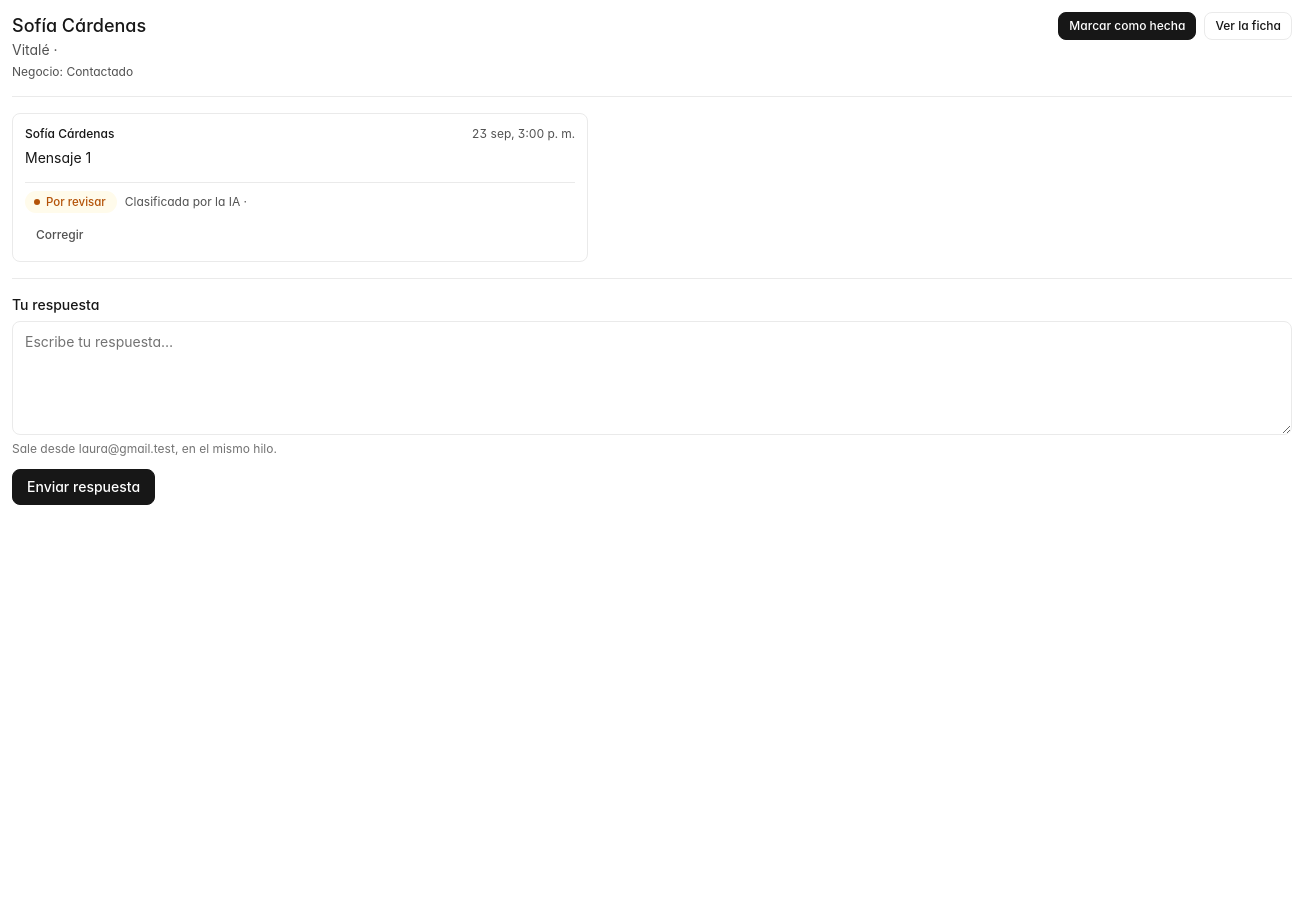
Test: corregir la intención › una ambigua se corrige a interesada; una baja pide confirmación antes
Click the button "Corregir" at (60, 235), box [25,221,94,249]
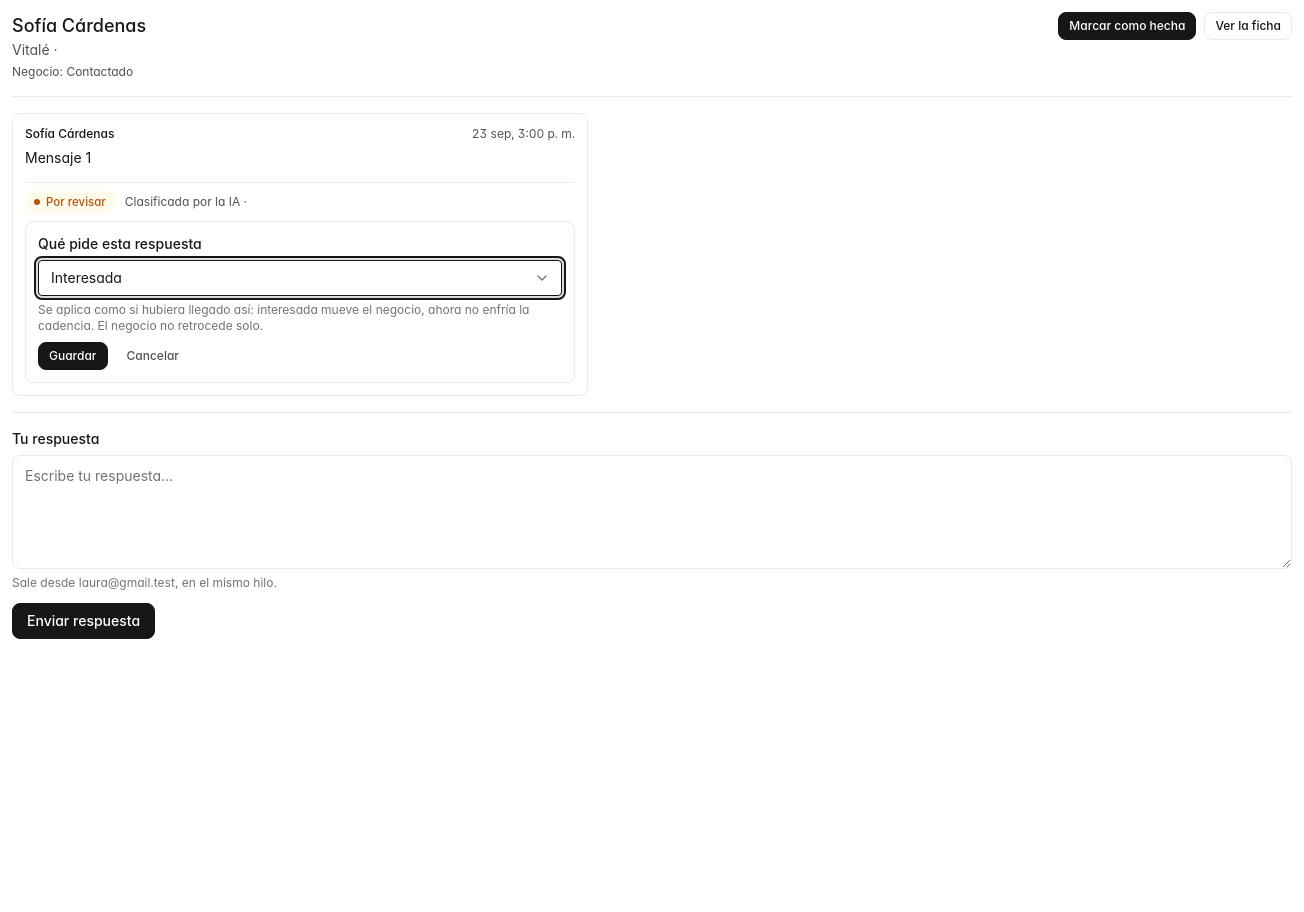
Click the button "Guardar" at (73, 356), box [38,342,108,370]
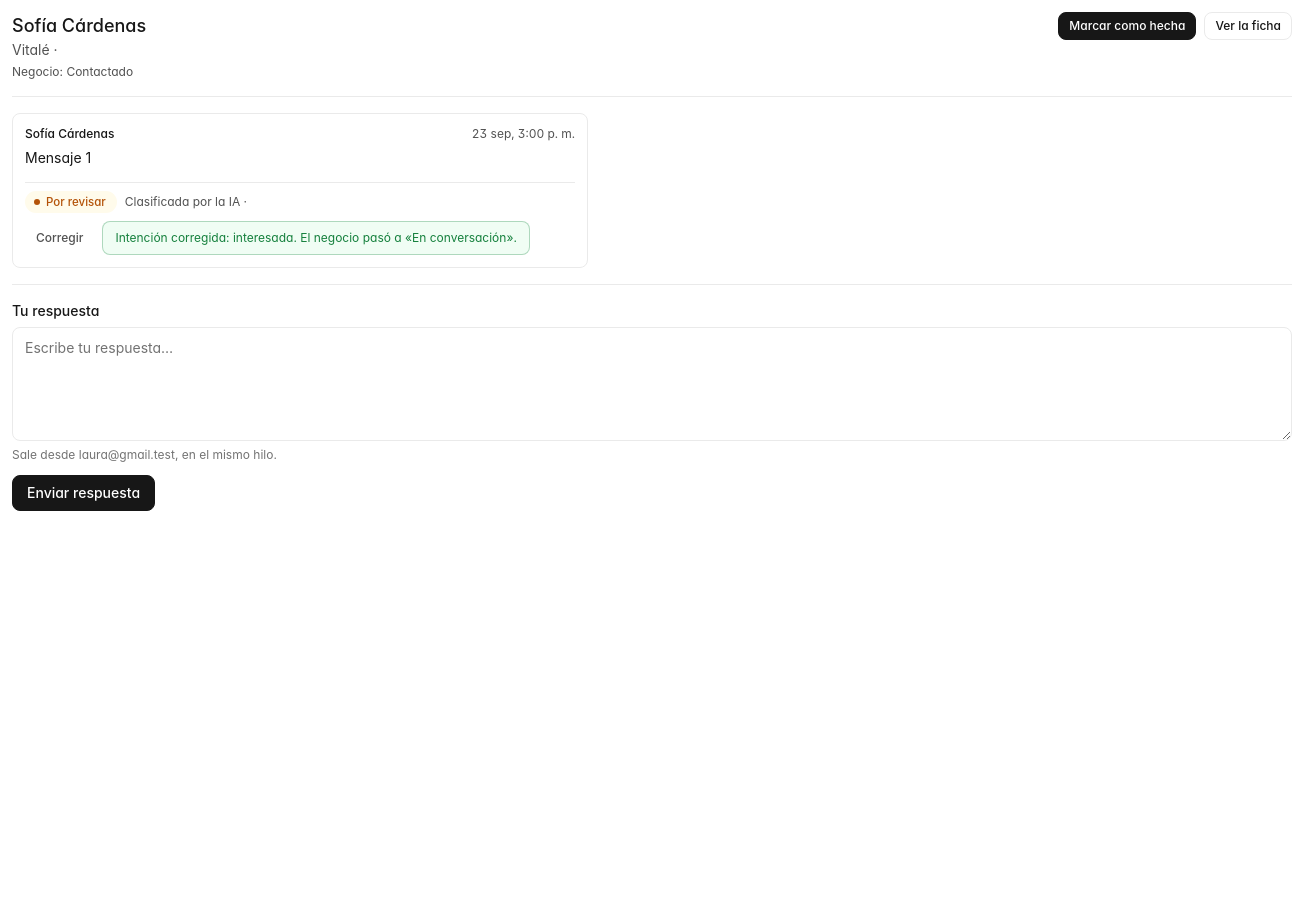
Click the button "Corregir" at (60, 238), box [25,224,94,252]
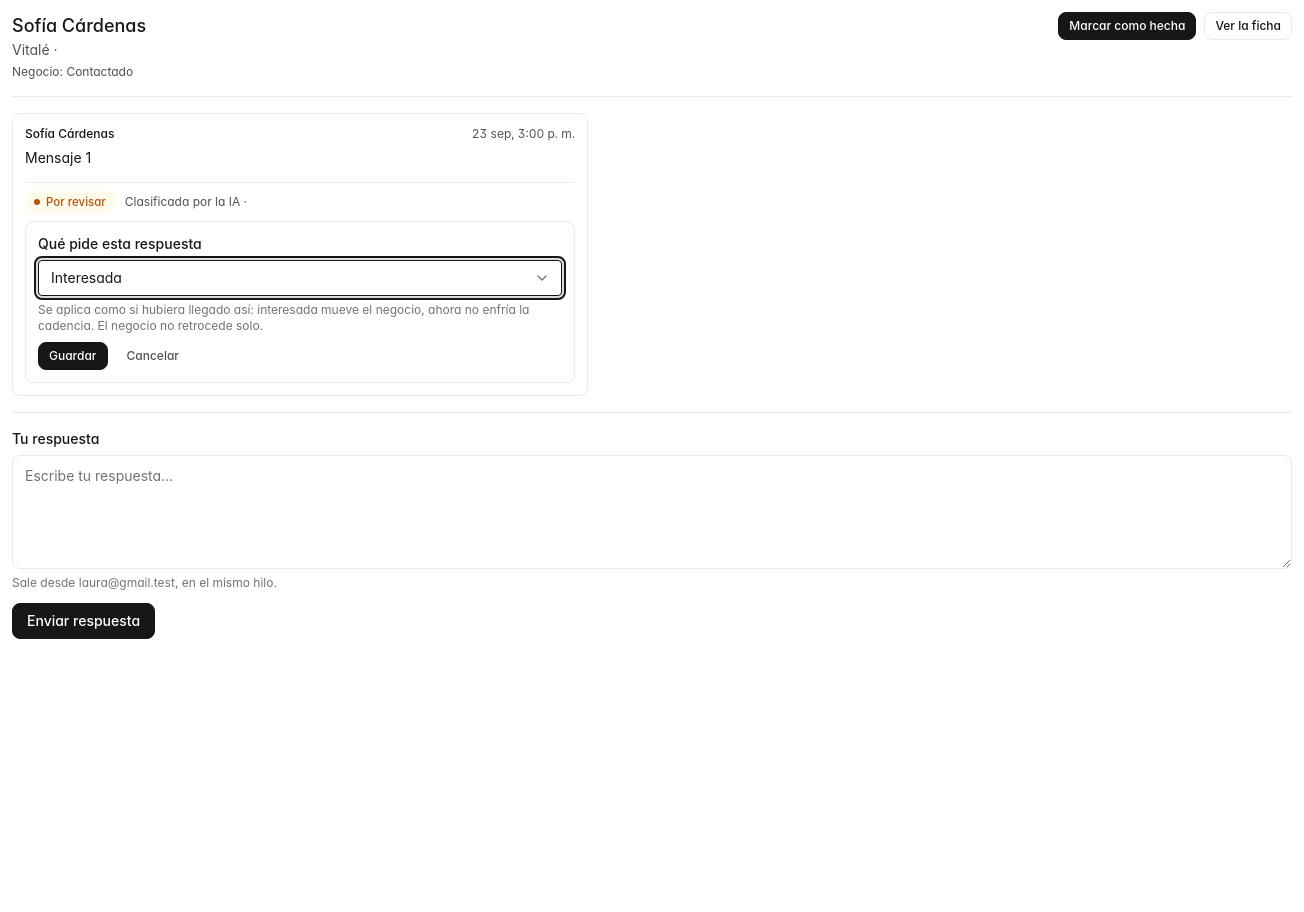
Select "Pidió la baja: dar de baja a la ficha" in the dropdown labelled "Qué pide esta respuesta" at (300, 278), box [38,260,562,296]
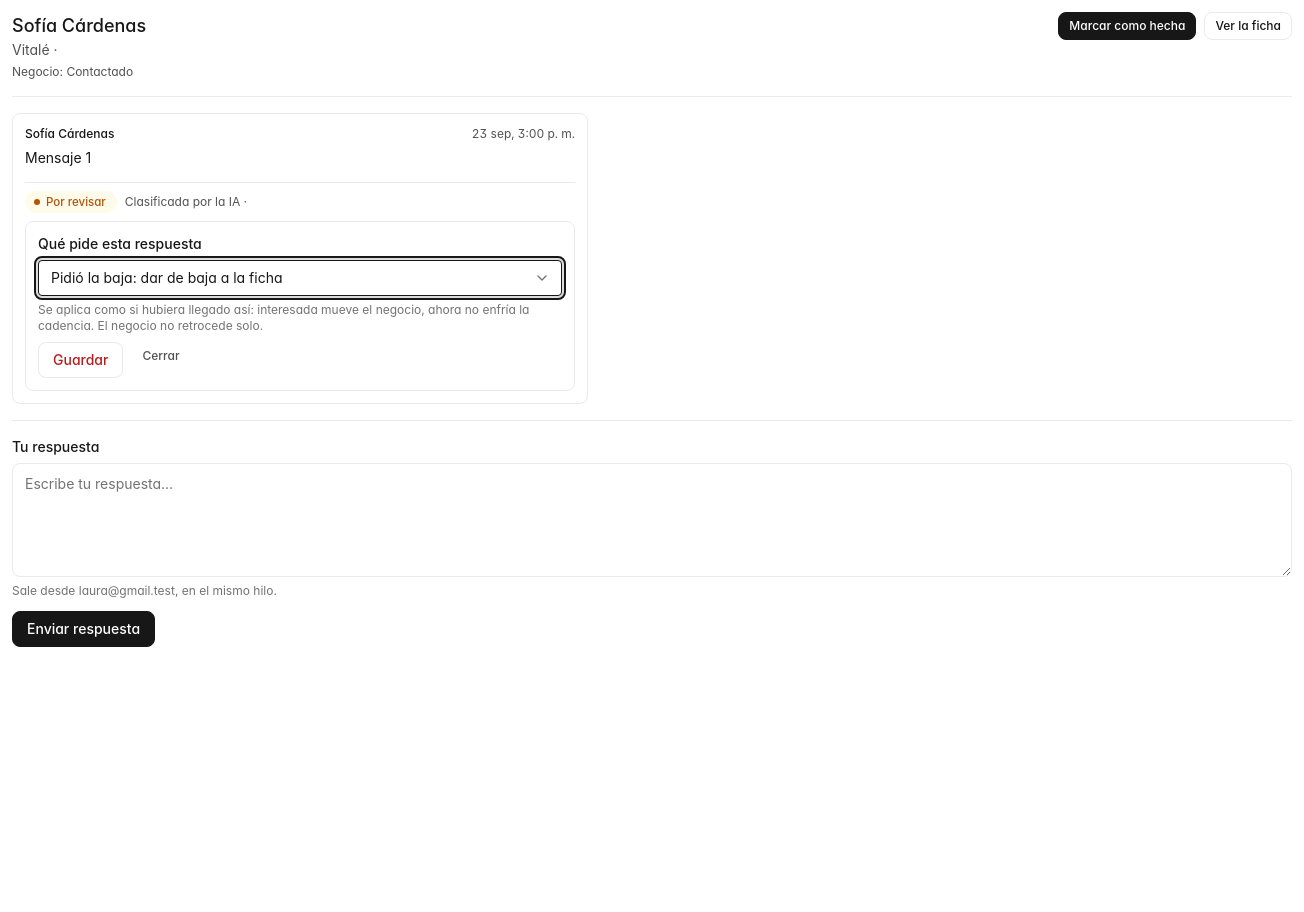
Click the button "Guardar" at (81, 360), box [38,342,123,378]
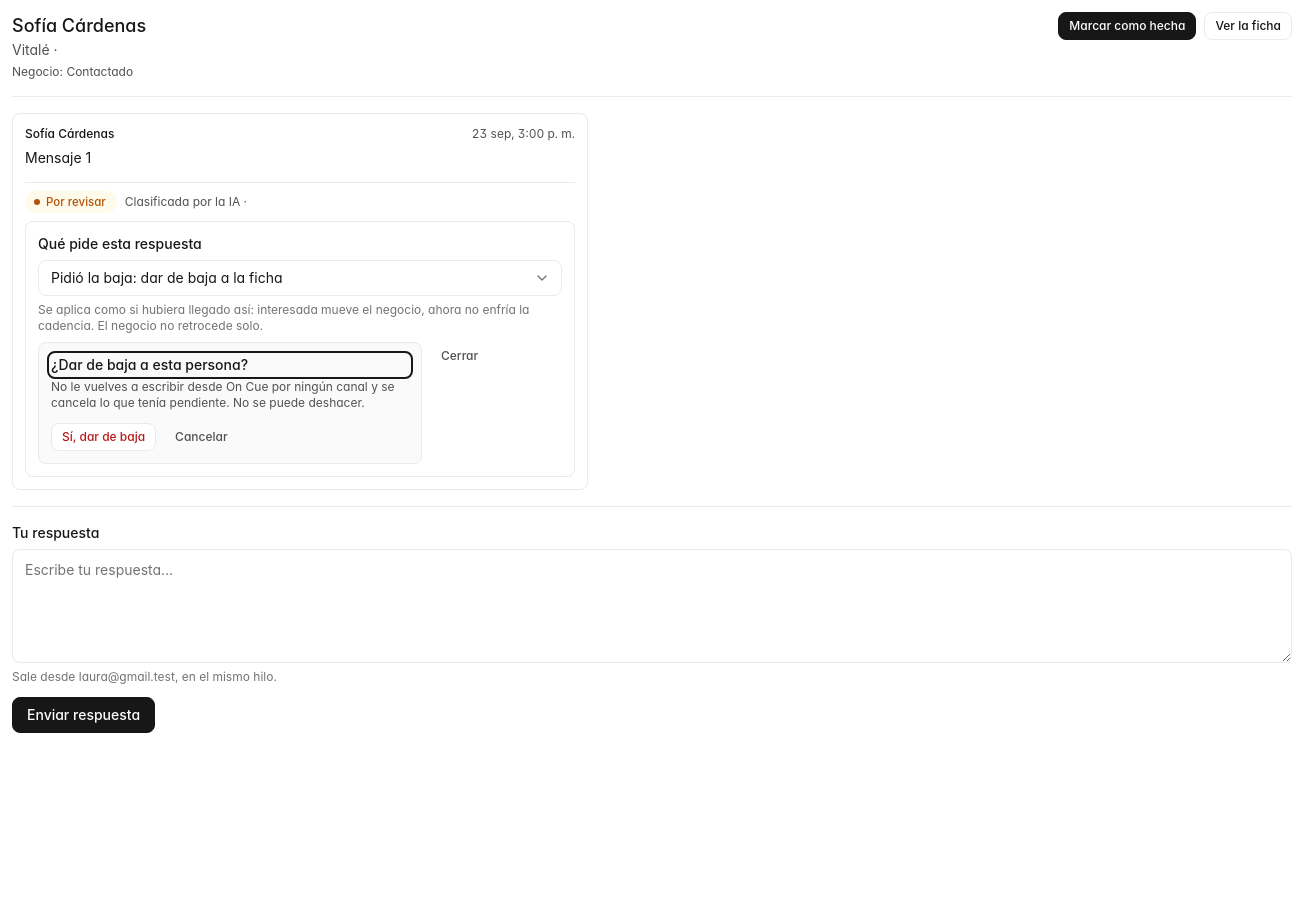
Check: the text "¿Dar de baja a esta persona?" is shown, box [51,356,248,373]
